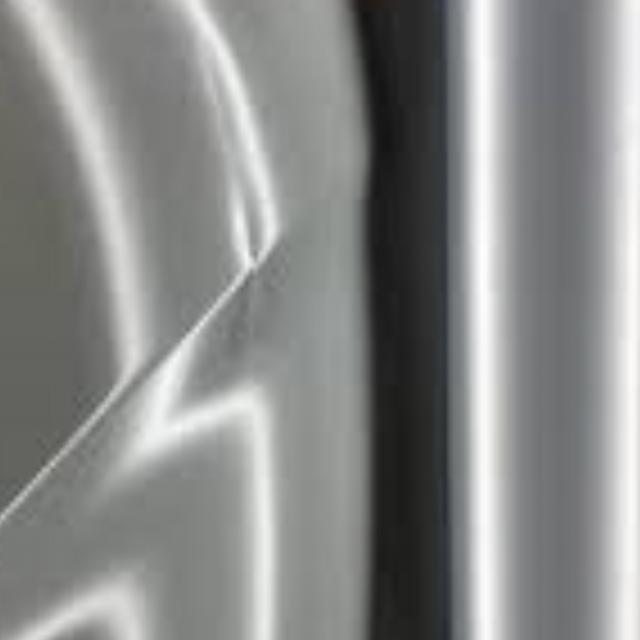dents: (174, 26, 309, 301)
